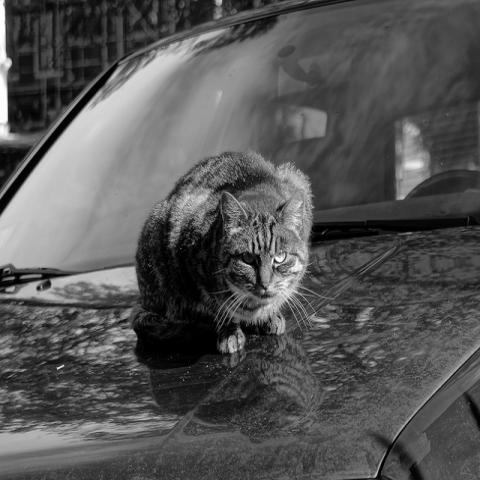car: (1, 0, 480, 475)
